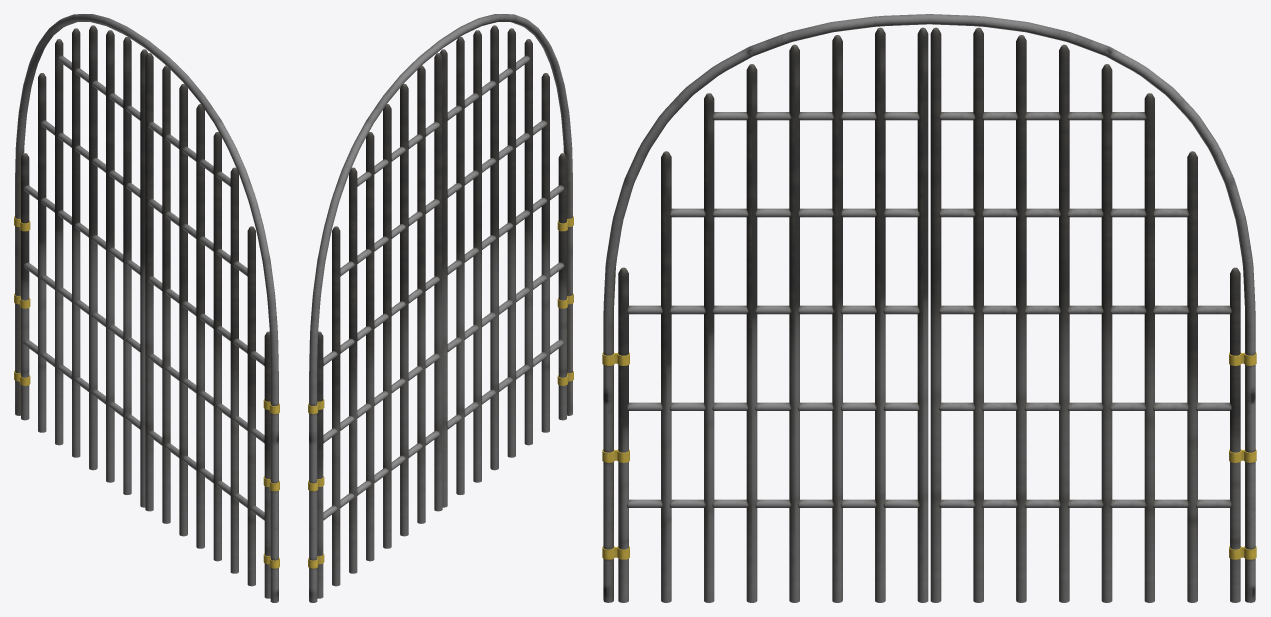
Rendered from u2_gate.fbx.
3 renders of one model, left to right at view 1: azimuth 30°, elevation 25°; view 2: azimuth 150°, elevation 25°; view 3: azimuth 270°, elevation 25°, orthographic. The views are drawn at different scales.
Visible parts, largest first — view 1: Gate left, Gate right, Gate bounds; view 2: Gate right, Gate left, Gate bounds; view 3: Gate right, Gate left, Gate bounds.
Part boxes in pixels (x1,y1,x2,y2): Gate left: (145,53,279,598); Gate right: (14,25,147,507); Gate bounds: (15,14,278,602); Gate right: (308,53,442,598); Gate left: (440,25,573,507); Gate bounds: (309,14,572,602); Gate right: (930,27,1256,602); Gate left: (602,27,928,602); Gate bounds: (603,14,1255,602).
Bounding box in the file's own units: 5.88 × 302 × 306.
